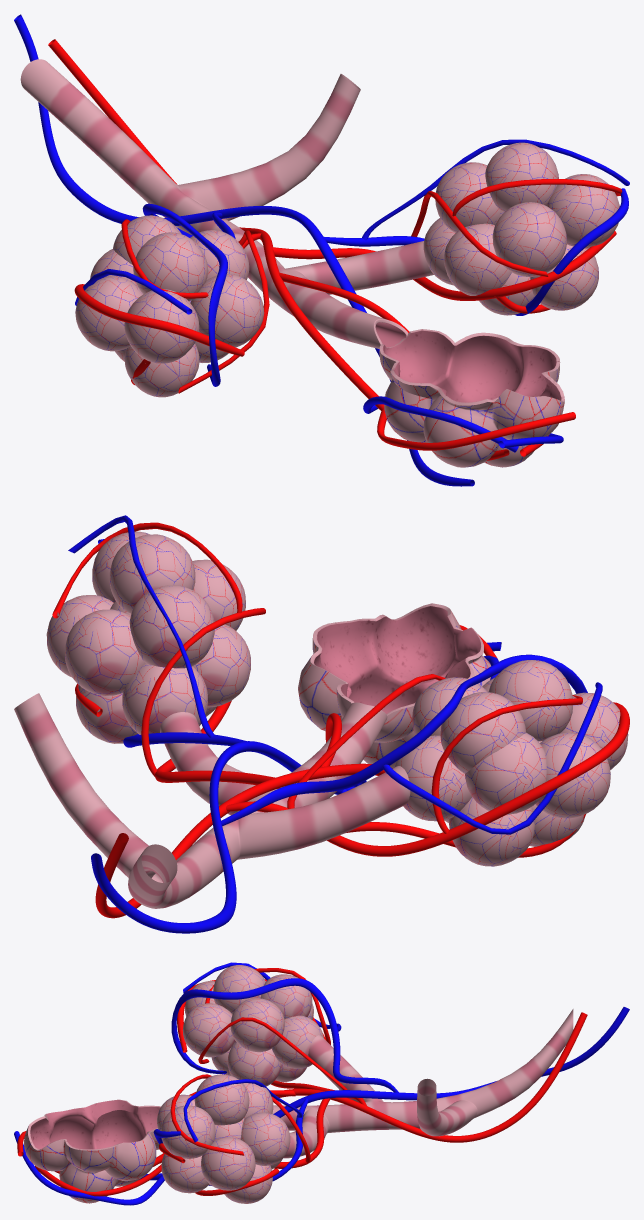
The model's file is alveoli.glb.
3 views of the same model, one above another, from view 1: azimuth 30°, elevation 25°; view 2: azimuth 150°, elevation 25°; view 3: azimuth 270°, elevation 25° (orthographic). The views are drawn at different scales.
Visible parts, largest first — view 1: pCylinder14_lambert2_0; view 2: pCylinder14_lambert2_0; view 3: pCylinder14_lambert2_0.
Boxes of the visible parts, <box> form: pCylinder14_lambert2_0: <box>14,14,629,486</box>; pCylinder14_lambert2_0: <box>14,515,629,933</box>; pCylinder14_lambert2_0: <box>14,962,629,1205</box>.
Bounding box in the file's own units: 0.3131 × 0.1351 × 0.4505.
1 material, 1 textured.
